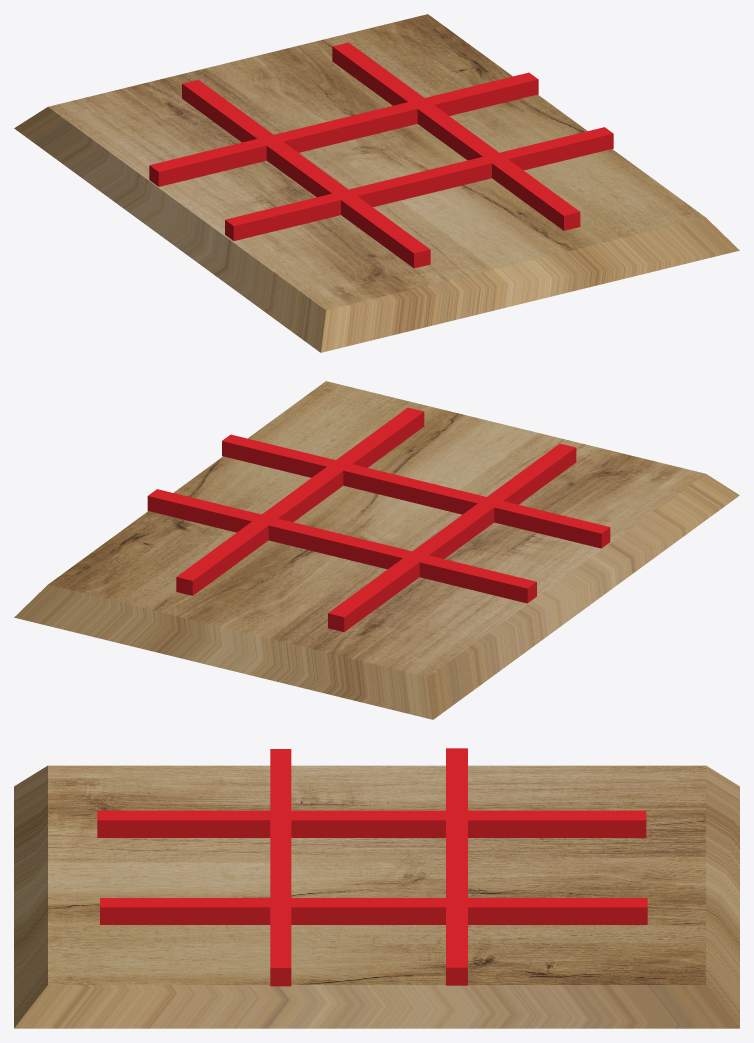
The model's file is boarddepth.glb.
3 renders of one model, top to bottom at view 1: azimuth 30°, elevation 25°; view 2: azimuth 150°, elevation 25°; view 3: azimuth 270°, elevation 25°, orthographic. The views are drawn at different scales.
Parts seen in each view (by area): view 1: Object_5, Object_73, node_id472_45, Object_67, node_id468_47, node_id451_41, node_id450_49, Object_65, Object_71; view 2: Object_5, node_id451_41, node_id450_49, Object_73, Object_67, Object_65, Object_71, node_id472_45; view 3: Object_5, Object_71, Object_65, Object_67, node_id450_49, node_id451_41, node_id472_45, Object_73.
Boxes of the visible parts, left/top/right/bottom form: Object_5: left=14, top=14, right=739, bottom=352; Object_73: left=332, top=43, right=578, bottom=230; node_id472_45: left=227, top=127, right=613, bottom=240; Object_67: left=182, top=80, right=428, bottom=268; node_id468_47: left=160, top=72, right=538, bottom=186; node_id451_41: left=149, top=73, right=536, bottom=186; node_id450_49: left=225, top=128, right=611, bottom=240; Object_65: left=183, top=80, right=430, bottom=267; Object_71: left=334, top=42, right=580, bottom=230; Object_5: left=14, top=381, right=739, bottom=719; node_id451_41: left=149, top=489, right=536, bottom=603; node_id450_49: left=223, top=435, right=610, bottom=548; Object_73: left=177, top=408, right=424, bottom=595; Object_67: left=329, top=447, right=576, bottom=632; Object_65: left=328, top=443, right=574, bottom=628; Object_71: left=176, top=407, right=422, bottom=591; node_id472_45: left=222, top=434, right=602, bottom=533; Object_5: left=14, top=765, right=739, bottom=1028; Object_71: left=100, top=898, right=647, bottom=924; Object_65: left=97, top=811, right=646, bottom=837; Object_67: left=97, top=810, right=646, bottom=819; node_id450_49: left=270, top=749, right=291, bottom=967; node_id451_41: left=446, top=748, right=467, bottom=966; node_id472_45: left=270, top=749, right=291, bottom=986; Object_73: left=100, top=898, right=647, bottom=906.
Bounding box in the file's own units: 0.3833 × 0.0369 × 0.4858.
5 materials, 5 textured.
